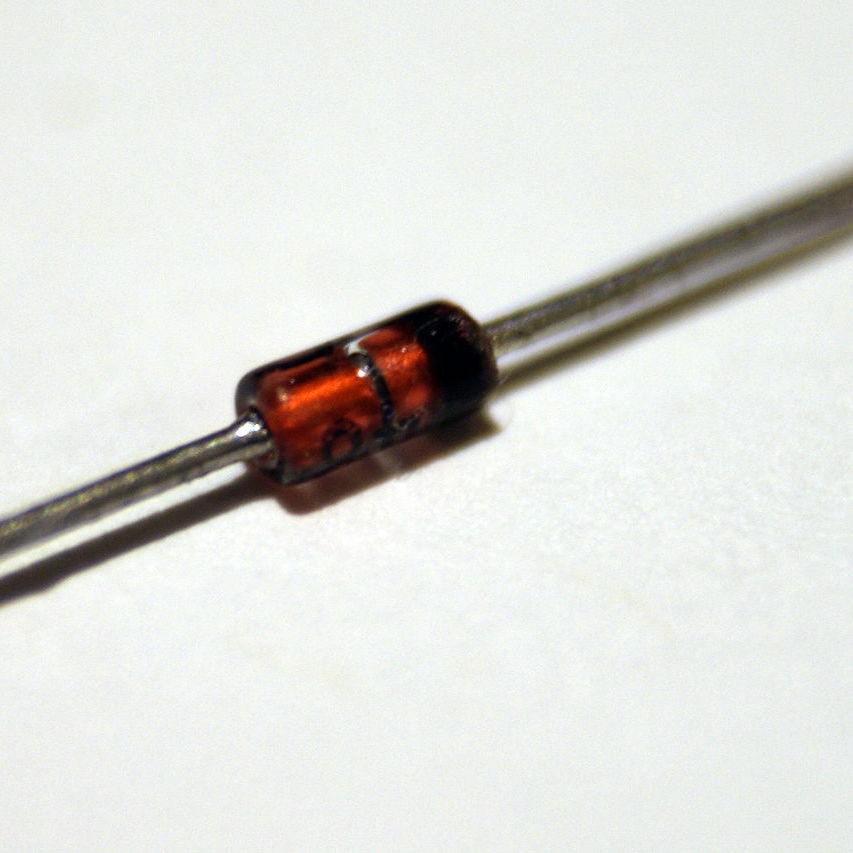Diode: (230, 300, 498, 490)
